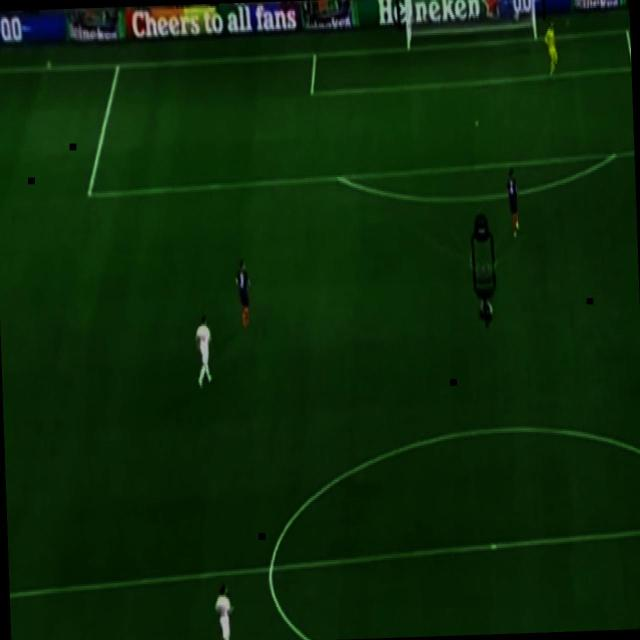player-white: (189, 310, 215, 394), (229, 254, 256, 334), (502, 162, 522, 244), (212, 574, 235, 640), (540, 16, 562, 84)
